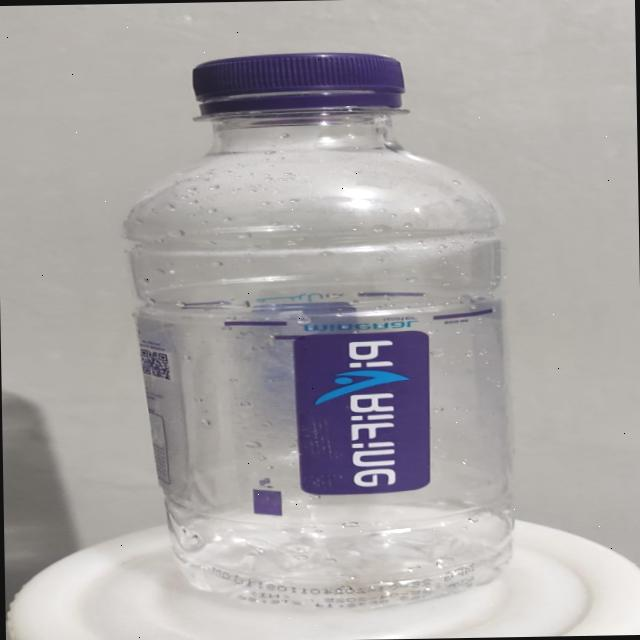bottle: (105, 42, 532, 614)
cap: (172, 48, 416, 126)
label: (128, 295, 494, 529)
